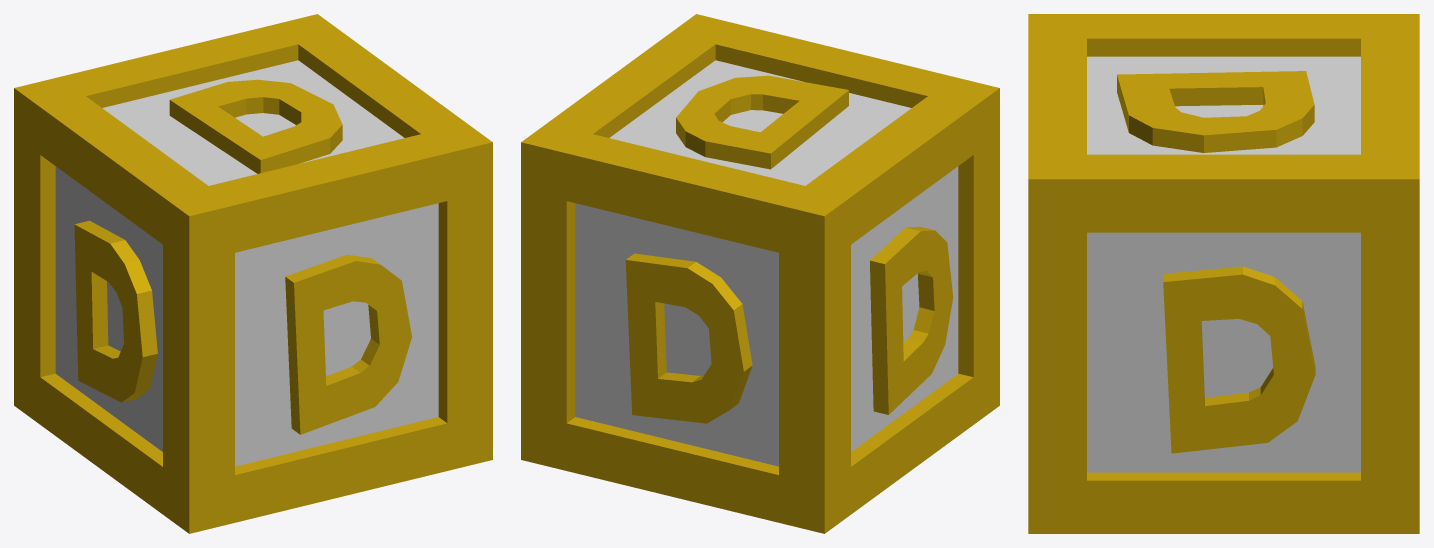
The model's file is Block_D.fbx.
The picture shows the model from 3 angles, left to right: view 1: azimuth 30°, elevation 25°; view 2: azimuth 150°, elevation 25°; view 3: azimuth 270°, elevation 25°; orthographic projection. The views are drawn at different scales.
Visible parts, largest first — view 1: Block_D; view 2: Block_D; view 3: Block_D.
Boxes of the visible parts, box(x1,y1,x2,y2) form: Block_D: box(14, 14, 492, 533); Block_D: box(521, 14, 999, 533); Block_D: box(1028, 14, 1419, 533).
Size of the model in its own units: 10 by 10 by 10.
